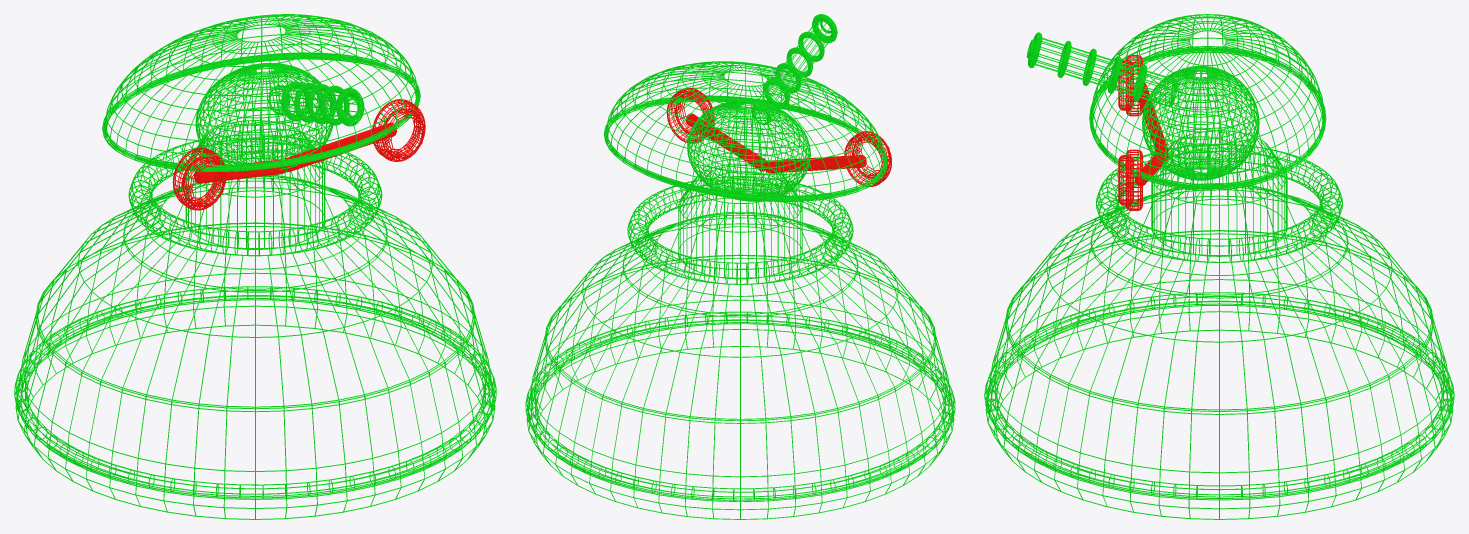
File: plasma-turret-highlight-tracking-and-ranging-sensors.glb
3 views of the same model, side by side, from view 1: azimuth 30°, elevation 25°; view 2: azimuth 150°, elevation 25°; view 3: azimuth 270°, elevation 25° (orthographic). The views are drawn at different scales.
Parts seen in each view (by area): view 1: armoured-power-base technical wire, water-cooled-plasma-delivery technical wire, chassis technical wire, tracking-and-ranging-sensors technical wire; view 2: armoured-power-base technical wire, water-cooled-plasma-delivery technical wire, chassis technical wire, tracking-and-ranging-sensors technical wire; view 3: armoured-power-base technical wire, water-cooled-plasma-delivery technical wire, chassis technical wire, tracking-and-ranging-sensors technical wire.
Part boxes in pixels (box(x1,y1,x2,y2)): armoured-power-base technical wire: box(15, 120, 495, 519); water-cooled-plasma-delivery technical wire: box(102, 14, 420, 176); chassis technical wire: box(14, 286, 496, 498); tracking-and-ranging-sensors technical wire: box(172, 99, 425, 210); armoured-power-base technical wire: box(526, 163, 954, 519); water-cooled-plasma-delivery technical wire: box(603, 14, 887, 201); chassis technical wire: box(525, 311, 955, 500); tracking-and-ranging-sensors technical wire: box(666, 88, 891, 186); armoured-power-base technical wire: box(985, 130, 1453, 519); water-cooled-plasma-delivery technical wire: box(1026, 14, 1326, 190); chassis technical wire: box(984, 292, 1454, 498); tracking-and-ranging-sensors technical wire: box(1118, 55, 1168, 210).
Size of the model in its own units: 2.02 by 1.85 by 2.02.
